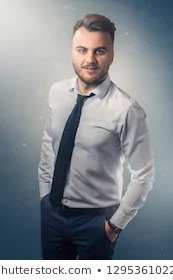F_belt: (56, 206, 121, 219)
F_dress pants: (40, 195, 116, 260)
F_shirt: (37, 79, 153, 227)
F_tie: (50, 87, 87, 205)
